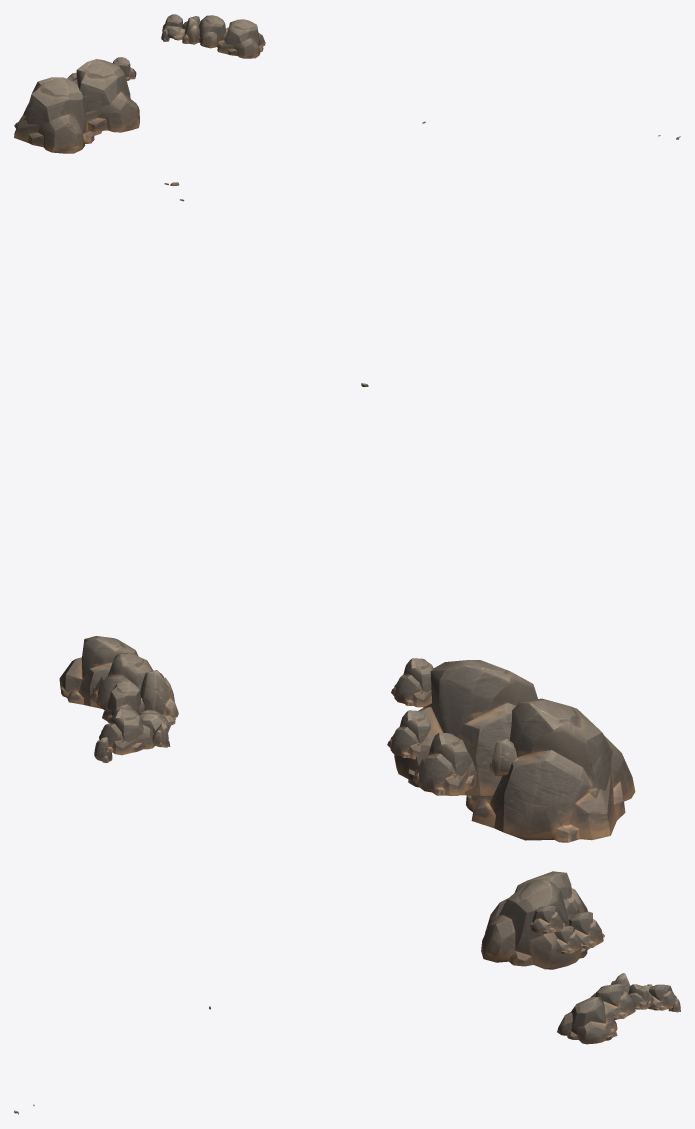
Rendered from pref_sm_beach_bk_pointmol_rightrock_lv2.fbx.
The picture shows the model from 3 angles, top to bottom: view 1: azimuth 30°, elevation 25°; view 2: azimuth 150°, elevation 25°; view 3: azimuth 270°, elevation 25°; orthographic projection. The views are drawn at different scales.
Visible parts, largest first — view 1: pref_sm_beach_bk_pointmol_rightrock_lv2; view 2: pref_sm_beach_bk_pointmol_rightrock_lv2; view 3: pref_sm_beach_bk_pointmol_rightrock_lv2.
Boxes of the visible parts, bbox=[...] form: pref_sm_beach_bk_pointmol_rightrock_lv2: bbox=[14, 14, 680, 153]; pref_sm_beach_bk_pointmol_rightrock_lv2: bbox=[59, 182, 635, 842]; pref_sm_beach_bk_pointmol_rightrock_lv2: bbox=[14, 871, 680, 1114].
Bounding box in the file's own units: 57.77 × 7.84 × 61.3.
